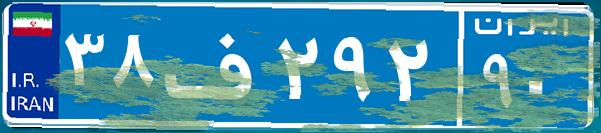0: (525, 38, 570, 115)
2: (385, 28, 445, 110), (273, 28, 330, 110)
3: (57, 26, 110, 107)
8: (110, 28, 158, 105)
9: (330, 28, 385, 110), (475, 38, 525, 113)
ف: (158, 15, 273, 115)
